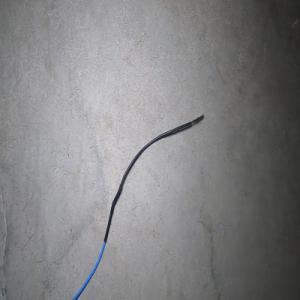Wire: (71, 113, 204, 300)
